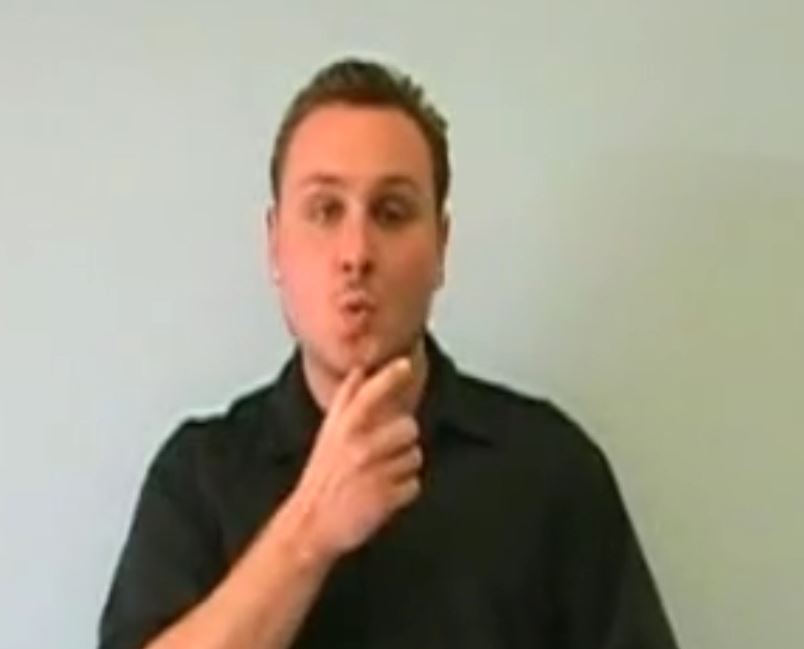who: (267, 319, 468, 555)
